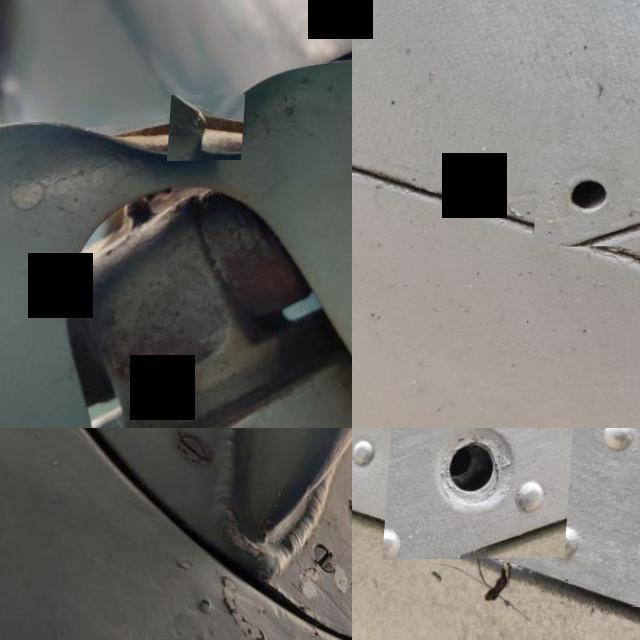Crack: (172, 95, 248, 162)
Missing_Fastener: (388, 428, 579, 560), (537, 143, 640, 247)
